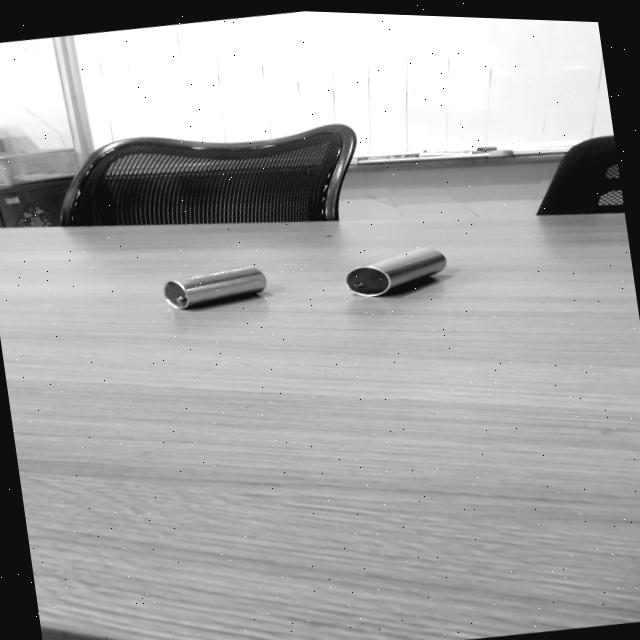Co_Lon: (341, 236, 448, 305)
Co_Nho: (161, 261, 267, 311)
